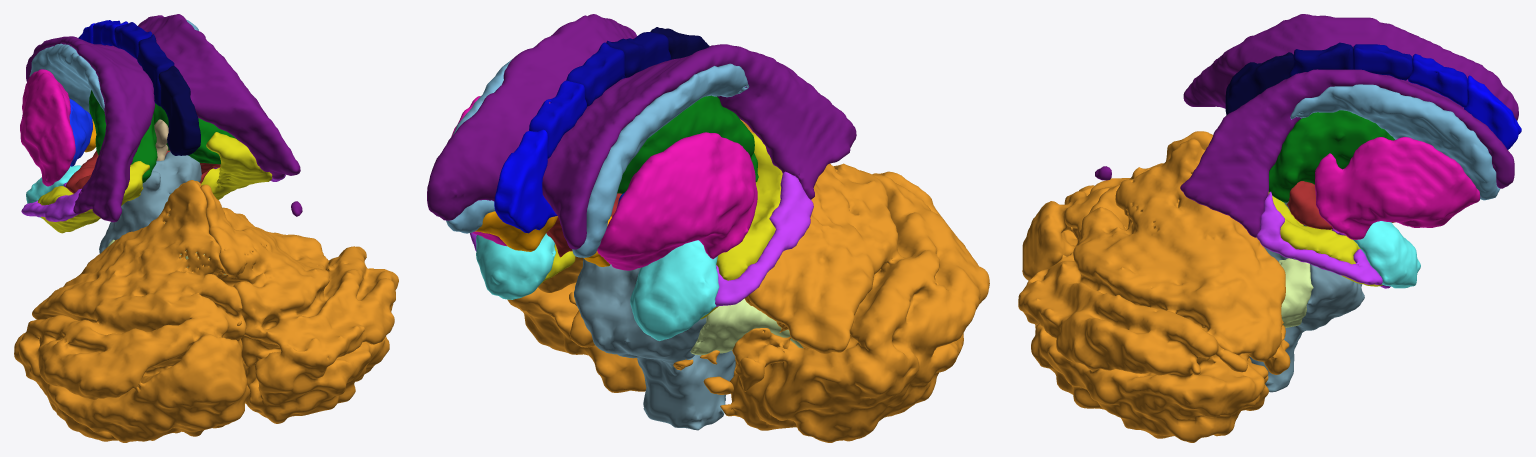
File: structures.glb
The picture shows the model from 3 angles, left to right: view 1: azimuth 30°, elevation 25°; view 2: azimuth 150°, elevation 25°; view 3: azimuth 270°, elevation 25°; orthographic projection. The views are drawn at different scales.
Parts seen in each view (by area): view 1: aseg:left:8, aseg:right:47, aseg:right:43, aseg:left:4, aseg:left:12, aseg:midline:16, aseg:midline:251, aseg:left:11, aseg:right:53, aseg:left:17, aseg:left:10, aseg:midline:252 (+8 smaller); view 2: aseg:left:8, aseg:left:4, aseg:left:12, aseg:right:43, aseg:midline:16, aseg:left:11, aseg:left:18, aseg:right:47, aseg:midline:255, aseg:left:5, aseg:left:10, aseg:right:54 (+8 smaller); view 3: aseg:right:47, aseg:right:43, aseg:right:51, aseg:left:4, aseg:right:50, aseg:right:49, aseg:left:8, aseg:midline:16, aseg:right:44, aseg:right:54, aseg:right:53, aseg:midline:251 (+6 smaller).
Part boxes in pixels (x1,y1,x2,y2): aseg:left:8: (14,180,250,442); aseg:right:47: (196,181,398,423); aseg:right:43: (138,14,302,216); aseg:left:4: (26,36,155,222); aseg:left:12: (20,69,86,186); aseg:midline:16: (99,151,201,253); aseg:midline:251: (158,66,200,155); aseg:left:11: (29,43,104,113); aseg:right:53: (201,132,272,199); aseg:left:17: (37,161,149,233); aseg:left:10: (89,90,157,182); aseg:midline:252: (137,34,174,106); aseg:left:8: (673,119,989,442); aseg:left:4: (542,44,856,249); aseg:left:12: (597,132,757,270); aseg:right:43: (427,14,712,220); aseg:midline:16: (574,258,735,430); aseg:left:11: (572,63,749,257); aseg:left:18: (630,240,719,340); aseg:right:47: (507,256,646,392); aseg:midline:255: (494,129,557,233); aseg:left:5: (715,171,813,307); aseg:left:10: (617,95,758,193); aseg:right:54: (476,233,555,299); aseg:right:47: (1018,138,1290,442); aseg:right:43: (1095,69,1514,237); aseg:right:51: (1315,137,1480,239); aseg:left:4: (1183,14,1518,120); aseg:right:50: (1290,84,1499,200); aseg:right:49: (1269,110,1394,202); aseg:left:8: (1022,131,1213,280); aseg:midline:16: (1249,201,1364,392); aseg:right:44: (1256,191,1390,288); aseg:right:54: (1353,221,1420,288); aseg:right:53: (1268,192,1382,286); aseg:midline:251: (1225,52,1293,115).
Size of the model in its own units: 0.103 by 0.089 by 0.119.
